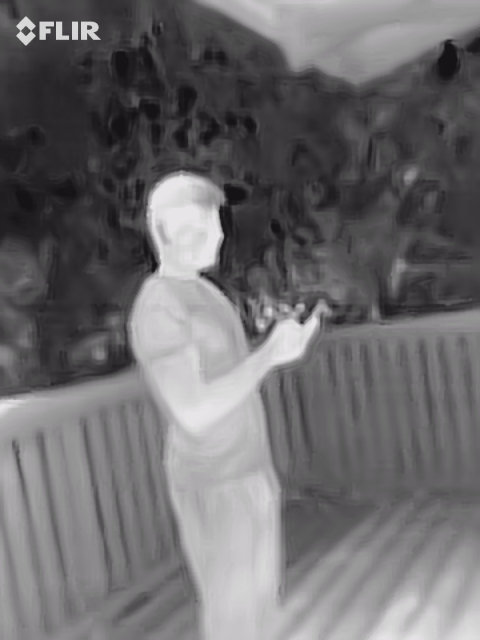head: (148, 172, 220, 268)
